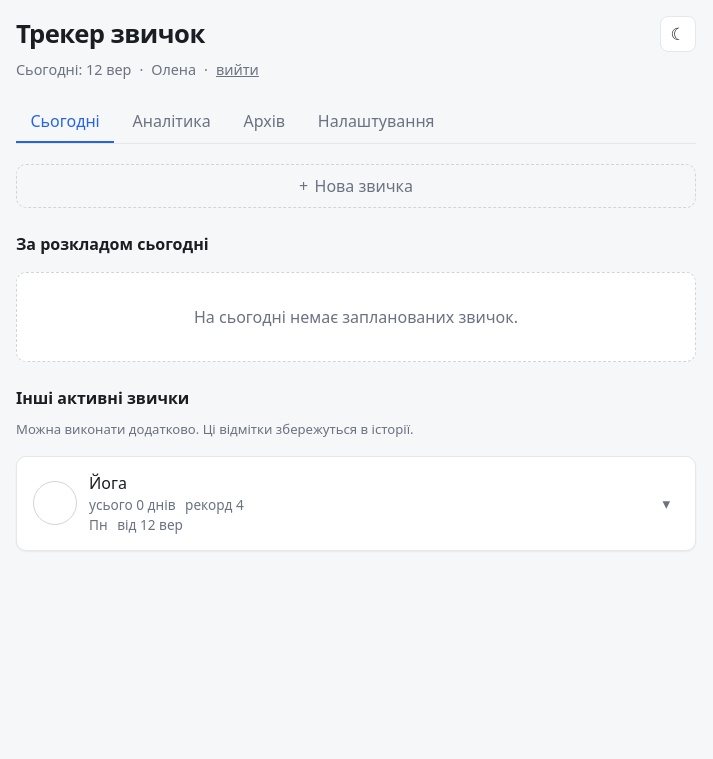
Test: Історія, архів та аналітика › не подає період без запланованих днів як нульовий результат
The width and height of the screenshot is (713, 759).
Click the tab "Аналітика". click: (172, 122)
box: [118,101,225,143]
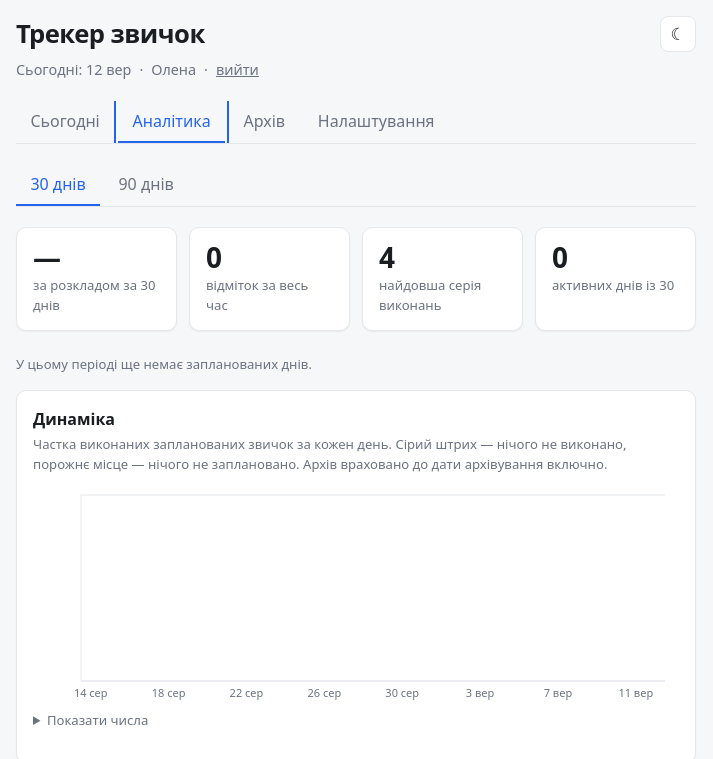
Expected: the text "—" is shown, [33,238,61,276]
Expected: the text "У цьому періоді ще немає запланованих днів." is shown, [16,355,312,373]
